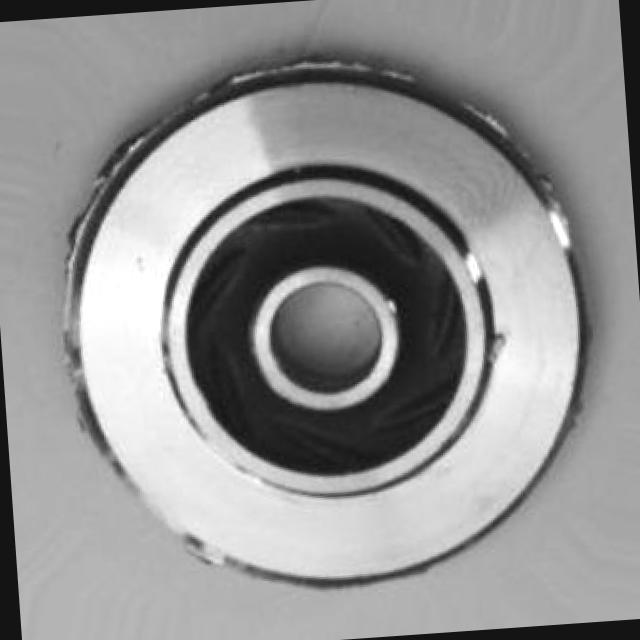Defect: (518, 150, 590, 250)
